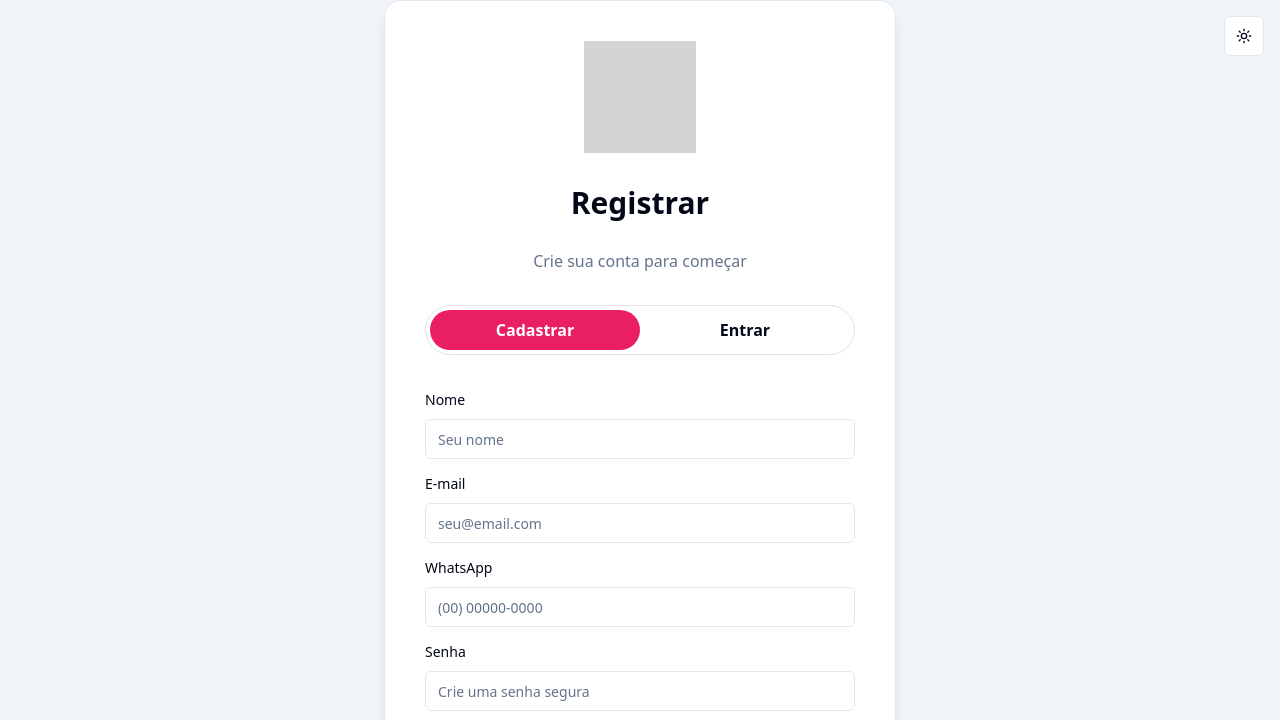
CreatorSignUp › Auth Type Toggle › switches back to signup form when signup button is clicked
Click the button "Entrar" at (745, 330), box [640,310,850,350]
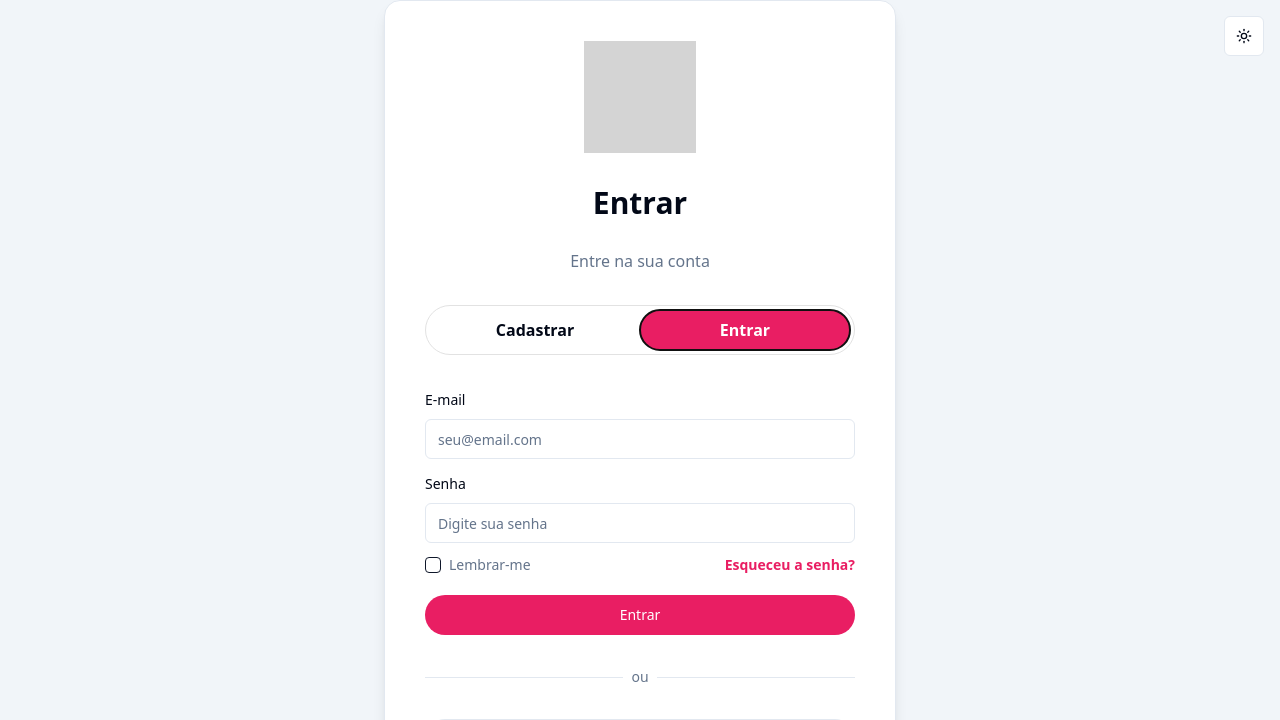
Now the text "Entre na sua conta" is shown, box [570,249,710,273]
Click the button "Cadastrar" at (535, 330), box [430,310,640,350]
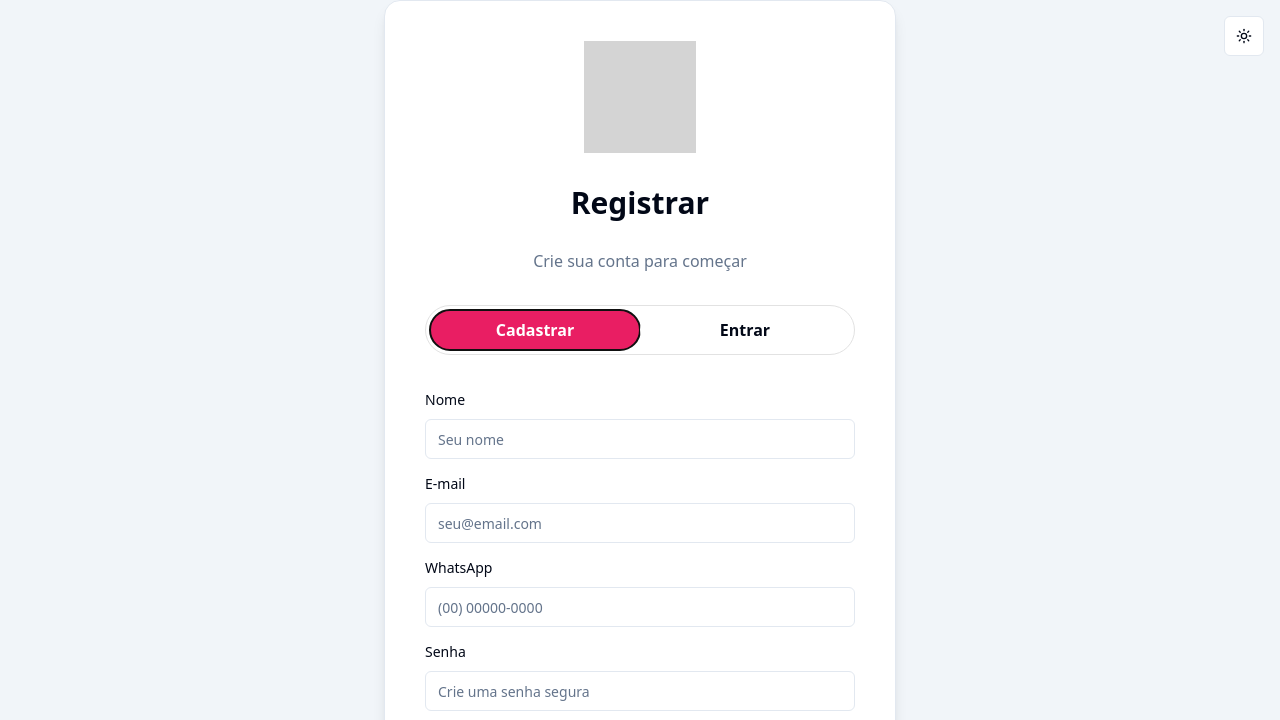
Now the text "Crie sua conta para começar" is shown, box [533,249,747,273]
